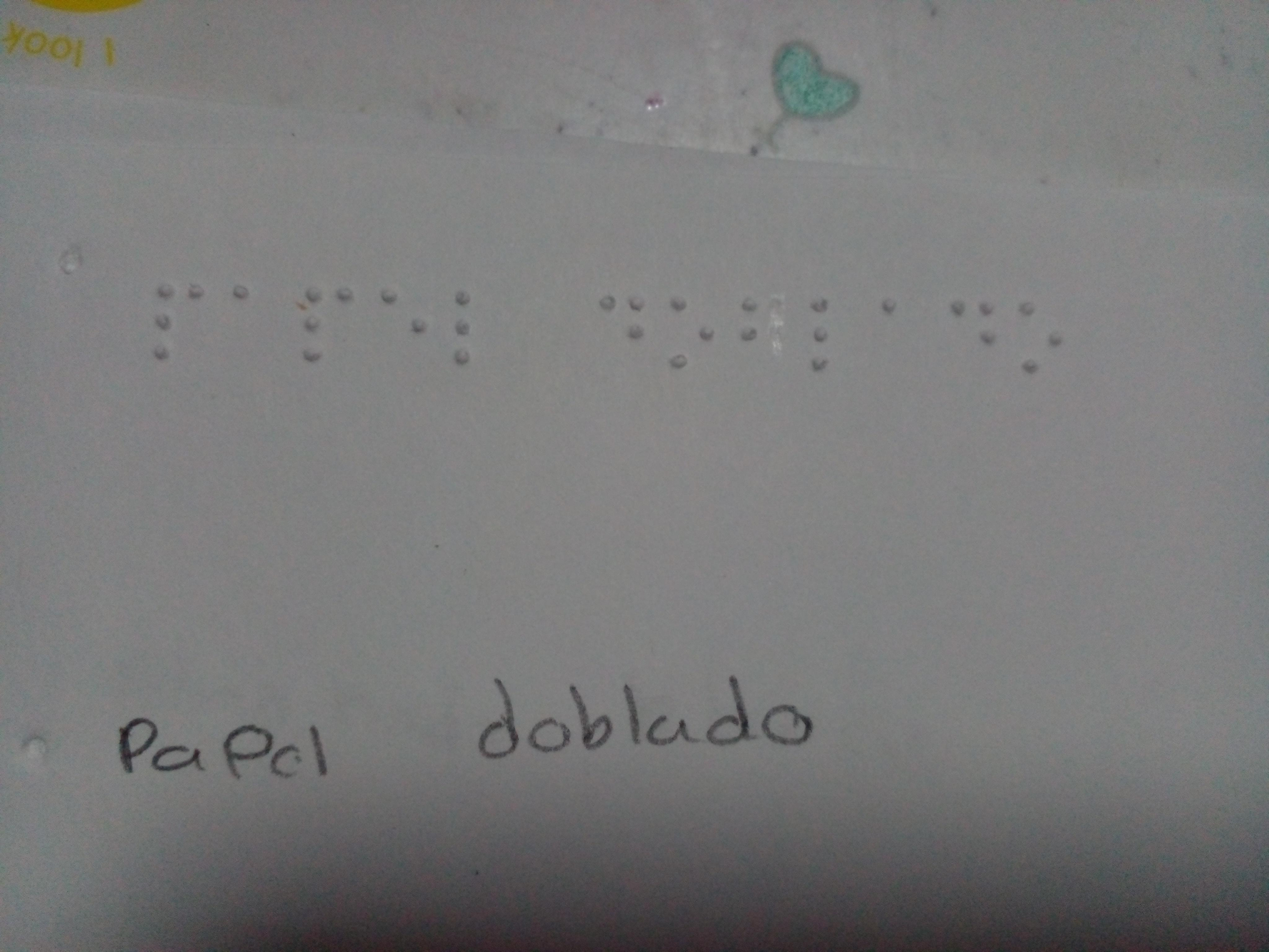a: (869, 280, 911, 336), (220, 276, 268, 315)
b: (742, 287, 779, 359)
d: (590, 280, 657, 363), (943, 279, 1004, 358)
e: (375, 274, 441, 363)
l: (448, 279, 488, 377), (804, 285, 836, 380)
o: (1012, 296, 1081, 400), (665, 284, 723, 389)
p: (152, 262, 218, 370), (293, 276, 366, 367)
